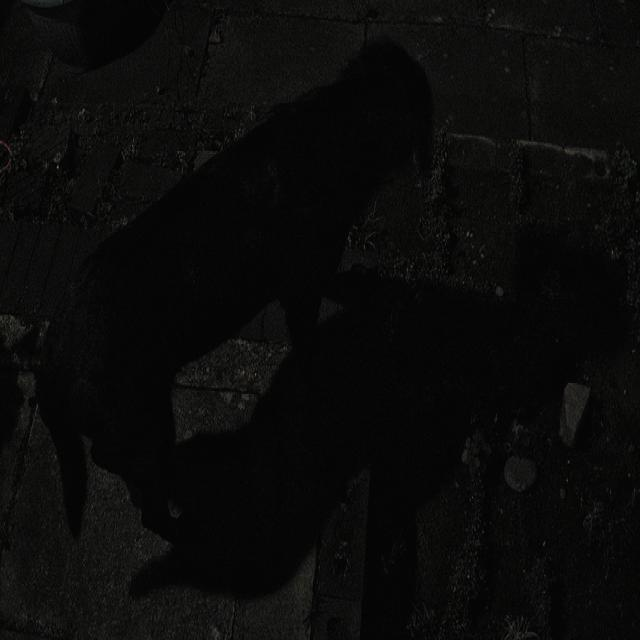Dog: (18, 74, 480, 476)
